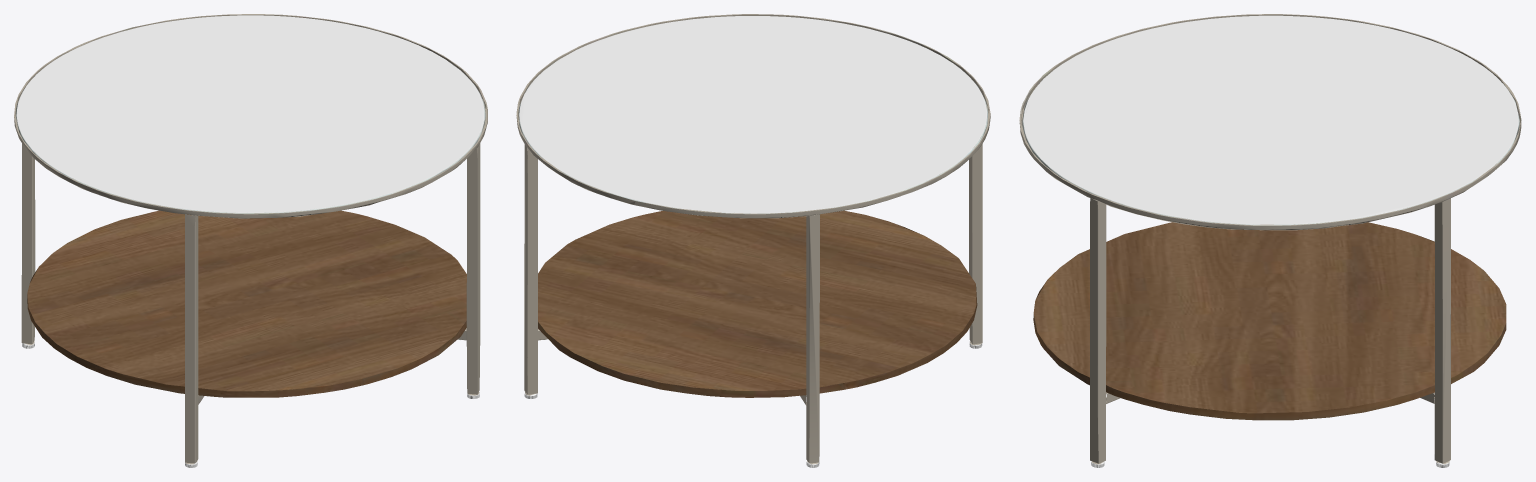
File: 02 - VITTSJÖ Coffee table - light beigeglass 75 cm.glb
3 renders of one model, left to right at view 1: azimuth 30°, elevation 25°; view 2: azimuth 150°, elevation 25°; view 3: azimuth 270°, elevation 25°, orthographic. The views are drawn at different scales.
Parts seen in each view (by area): view 1: ASY_ART_30604348_S01_NV01; view 2: ASY_ART_30604348_S01_NV01; view 3: ASY_ART_30604348_S01_NV01.
Part boxes in pixels (x1,y1,x2,y2): ASY_ART_30604348_S01_NV01: (14,14,487,467); ASY_ART_30604348_S01_NV01: (516,14,990,467); ASY_ART_30604348_S01_NV01: (1019,14,1521,467).
Bounding box in the file's own units: 0.7493 × 0.4495 × 0.7496.
2 materials, 2 textured.
